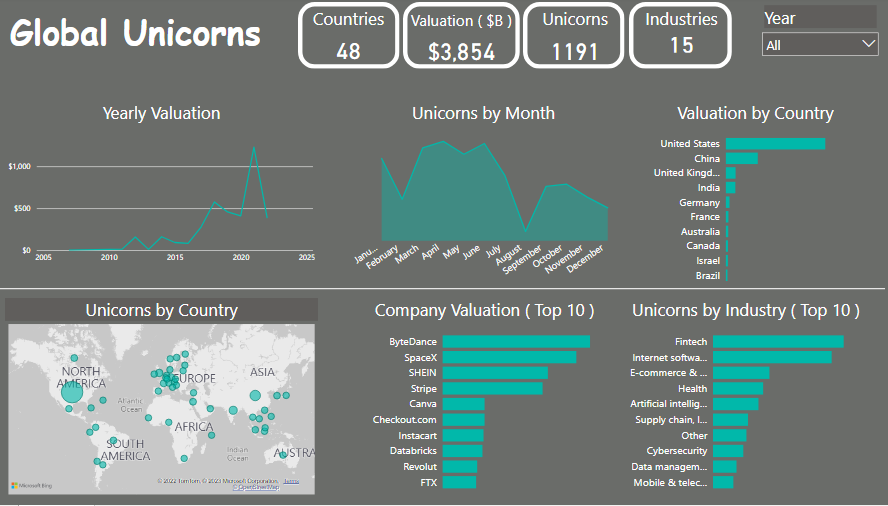

This screenshot's page, from the dashboard's own definition file:
{"tool":"powerbi","page":{"name":"Page 1","canvas":[1400,800],"ordinal":0},"visuals":[{"type":"card","title":"Countries","fields":{"Values":["Metrics.countries"]},"box":[480.3,15.7,137,96.1],"z":0},{"type":"card","title":"Unicorns","fields":{"Values":["Metrics.total_unicorns"]},"box":[812.6,15.7,185.8,97.6],"z":1},{"type":"card","title":"Industries","fields":{"Values":["Metrics.industry"]},"box":[1003.1,15.7,140.2,77.2],"z":2},{"type":"slicer","fields":{"Values":["global_unicorns.year"]},"box":[1190.6,7.9,203.1,92.9],"z":3},{"type":"card","title":"Valuation ( $B )","fields":{"Values":["Metrics.total_valuation"]},"box":[639.4,18.4,174.5,95.5],"z":4},{"type":"lineChart","title":"Yearly Valuation","fields":{"Category":["global_unicorns.year"],"Y":["Metrics.total_valuation"]},"box":[7.9,163.8,492.9,264.6],"z":5},{"type":"areaChart","title":"Unicorns by Month","fields":{"Category":["global_unicorns.month_name"],"Y":["Metrics.total_unicorns"]},"box":[548,163.8,426.8,297.6],"z":6},{"type":"map","title":"Unicorns by Country","fields":{"Category":["global_unicorns.country"],"Size":["Metrics.total_unicorns"]},"box":[7.9,474,492.9,315],"z":7},{"type":"clusteredBarChart","title":"Valuation by Country","fields":{"Y":["Metrics.total_valuation"],"Category":["global_unicorns.country"]},"box":[1004.7,163.8,370.1,297.6],"z":8},{"type":"clusteredBarChart","title":"Company Valuation ( Top 10 )","fields":{"Category":["global_unicorns.company"],"Y":["Metrics.total_valuation"]},"box":[574.8,474,376.4,315],"z":9},{"type":"clusteredBarChart","title":"Unicorns by Industry ( Top 10 )","fields":{"Category":["global_unicorns.industry"],"Y":["Metrics.total_unicorns"]},"box":[974.8,474,400,315],"z":10},{"type":"shape","box":[468.5,7.3,159.8,104.7],"z":11},{"type":"shape","box":[633.9,7.3,183.7,104.7],"z":12},{"type":"shape","box":[823.1,7.3,159.8,104.7],"z":13},{"type":"shape","box":[990.3,7.3,161.7,104.7],"z":14},{"type":"textbox","box":[0,11,426.2,113.9],"z":15},{"type":"shape","box":[0,447.2,1393.7,23.6],"z":16}]}

Visuals, with their boxes in screenshot pixels (x1, y1, x2, y2), scaled from the page's 1400x800 canvas onto the 888x506 screenshot:
"Countries" card: pyautogui.locateOnScreen(305, 10, 392, 71)
"Unicorns" card: pyautogui.locateOnScreen(515, 10, 633, 72)
"Industries" card: pyautogui.locateOnScreen(636, 10, 725, 59)
slicer - global_unicorns.year: pyautogui.locateOnScreen(755, 5, 884, 64)
"Valuation ( $B )" card: pyautogui.locateOnScreen(406, 12, 516, 72)
"Yearly Valuation" lineChart: pyautogui.locateOnScreen(5, 104, 318, 271)
"Unicorns by Month" areaChart: pyautogui.locateOnScreen(348, 104, 618, 292)
"Unicorns by Country" map: pyautogui.locateOnScreen(5, 300, 318, 499)
"Valuation by Country" clusteredBarChart: pyautogui.locateOnScreen(637, 104, 872, 292)
"Company Valuation ( Top 10 )" clusteredBarChart: pyautogui.locateOnScreen(365, 300, 603, 499)
"Unicorns by Industry ( Top 10 )" clusteredBarChart: pyautogui.locateOnScreen(618, 300, 872, 499)
shape: pyautogui.locateOnScreen(297, 5, 399, 71)
shape: pyautogui.locateOnScreen(402, 5, 519, 71)
shape: pyautogui.locateOnScreen(522, 5, 623, 71)
shape: pyautogui.locateOnScreen(628, 5, 731, 71)
textbox: pyautogui.locateOnScreen(0, 7, 270, 79)
shape: pyautogui.locateOnScreen(0, 283, 884, 298)
